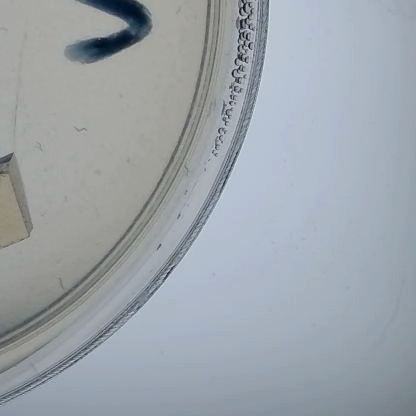worm: (70, 123, 90, 135), (55, 273, 67, 292), (33, 139, 48, 154), (171, 4, 187, 18), (0, 24, 12, 32)
